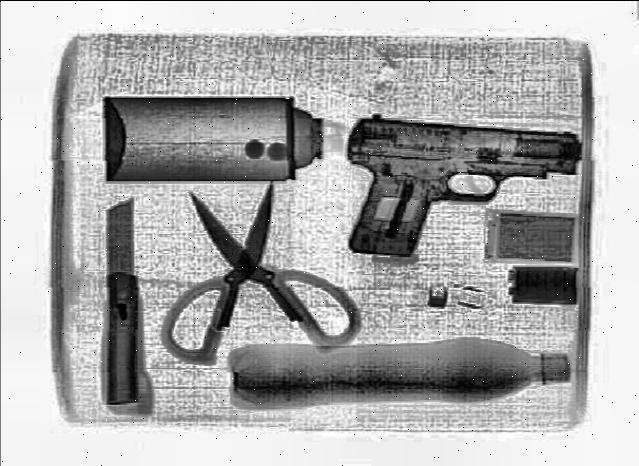Gun: (345, 114, 583, 258)
Scissors: (160, 178, 362, 366)
